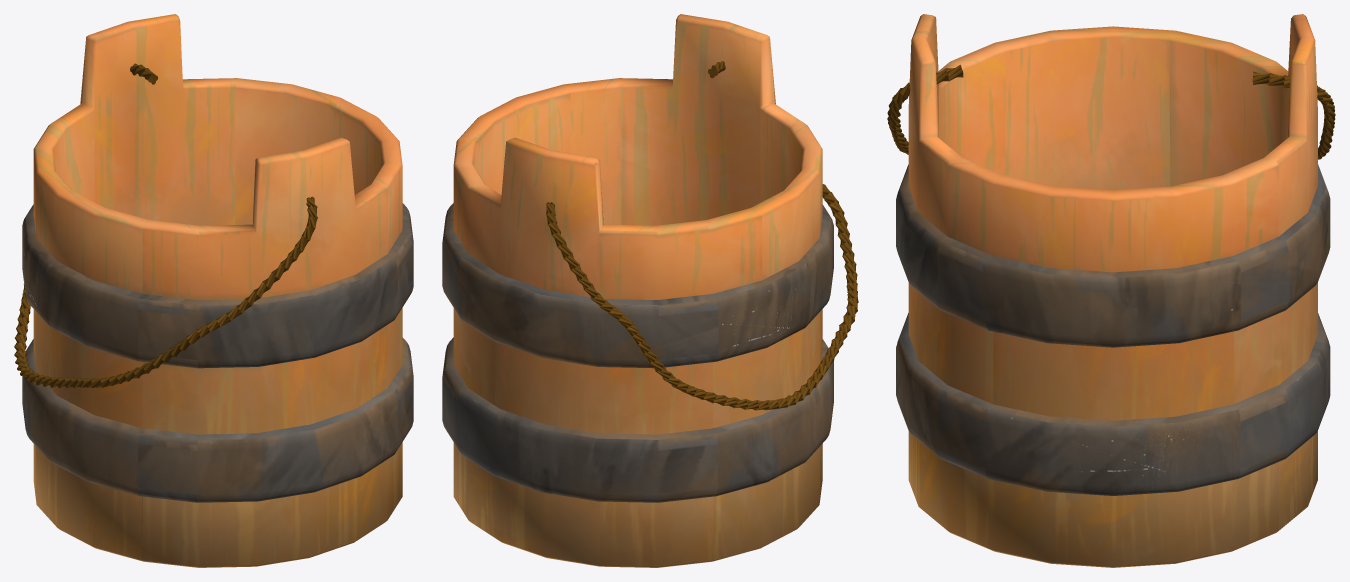
The model's file is House_Bucket_v01.fbx.
3 renders of one model, left to right at view 1: azimuth 30°, elevation 25°; view 2: azimuth 150°, elevation 25°; view 3: azimuth 270°, elevation 25°, orthographic. The views are drawn at different scales.
Parts seen in each view (by area): view 1: Bucket_Body, Bucket_Rim, Bucket_Rope; view 2: Bucket_Body, Bucket_Rim, Bucket_Rope; view 3: Bucket_Body, Bucket_Rim, Bucket_Rope.
Boxes of the visible parts, x1=… form: Bucket_Body: x1=33, y1=14, x2=402, y2=567; Bucket_Rim: x1=22, y1=203, x2=413, y2=502; Bucket_Rope: x1=14, y1=63, x2=317, y2=388; Bucket_Body: x1=453, y1=14, x2=822, y2=567; Bucket_Rim: x1=442, y1=203, x2=833, y2=502; Bucket_Rope: x1=546, y1=61, x2=858, y2=410; Bucket_Body: x1=908, y1=14, x2=1317, y2=567; Bucket_Rim: x1=896, y1=164, x2=1330, y2=495; Bucket_Rope: x1=887, y1=64, x2=1335, y2=159.
Bounding box in the file's own units: 43.73 × 43.79 × 48.
1 material, 1 textured.
